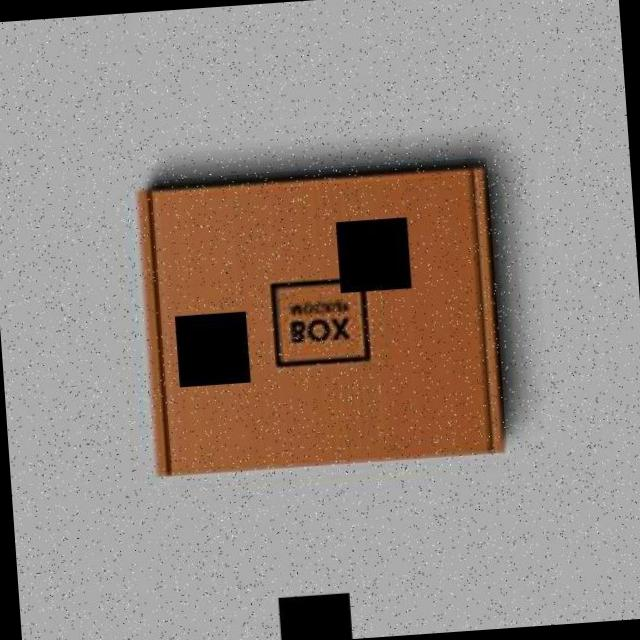box: (132, 156, 506, 477)
